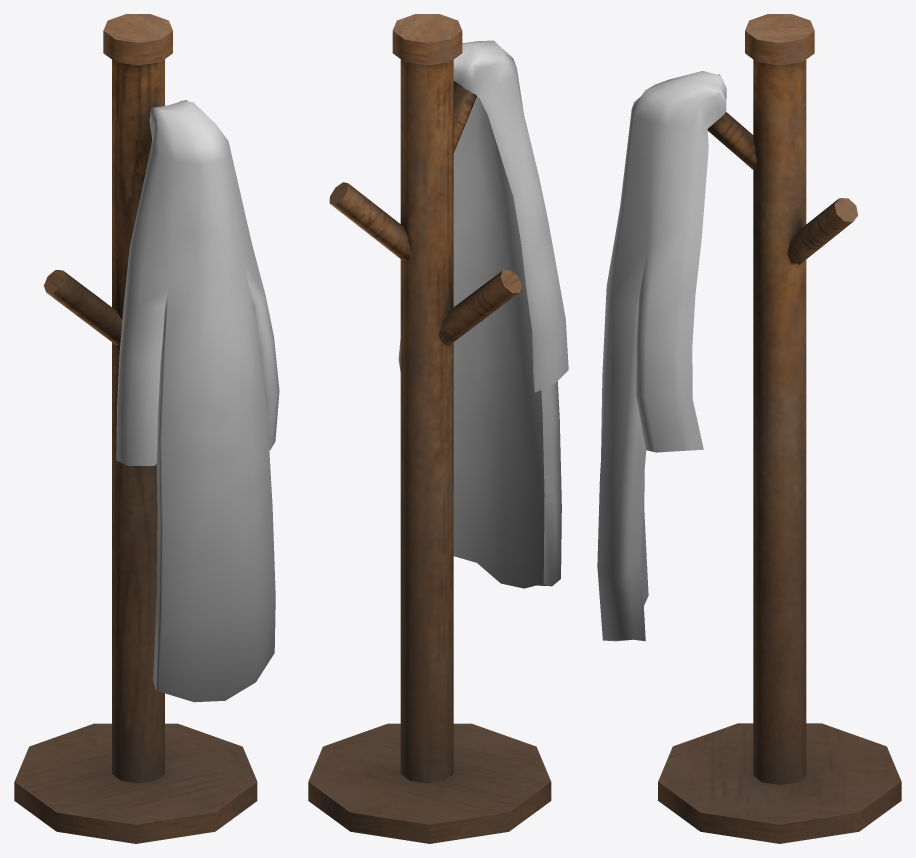
Rendered from SM_prop_Laboratory_Hanger.fbx.
3 views of the same model, side by side, from view 1: azimuth 30°, elevation 25°; view 2: azimuth 150°, elevation 25°; view 3: azimuth 270°, elevation 25° (orthographic).
Parts seen in each view (by area): view 1: SM_prop_Laboratory_Hanger_low; view 2: SM_prop_Laboratory_Hanger_low; view 3: SM_prop_Laboratory_Hanger_low.
Part boxes in pixels (x1=…): SM_prop_Laboratory_Hanger_low: x1=14, y1=14, x2=279, y2=843; SM_prop_Laboratory_Hanger_low: x1=308, y1=14, x2=568, y2=843; SM_prop_Laboratory_Hanger_low: x1=597, y1=14, x2=901, y2=843.
Size of the model in its own units: 43.37 by 153 by 55.02.
Materials: 1 (1 with a texture image).
